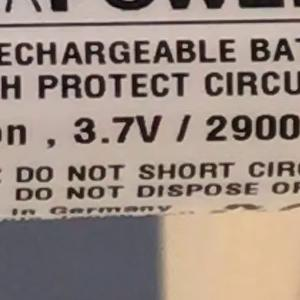3.7V: (64, 105, 170, 154)
